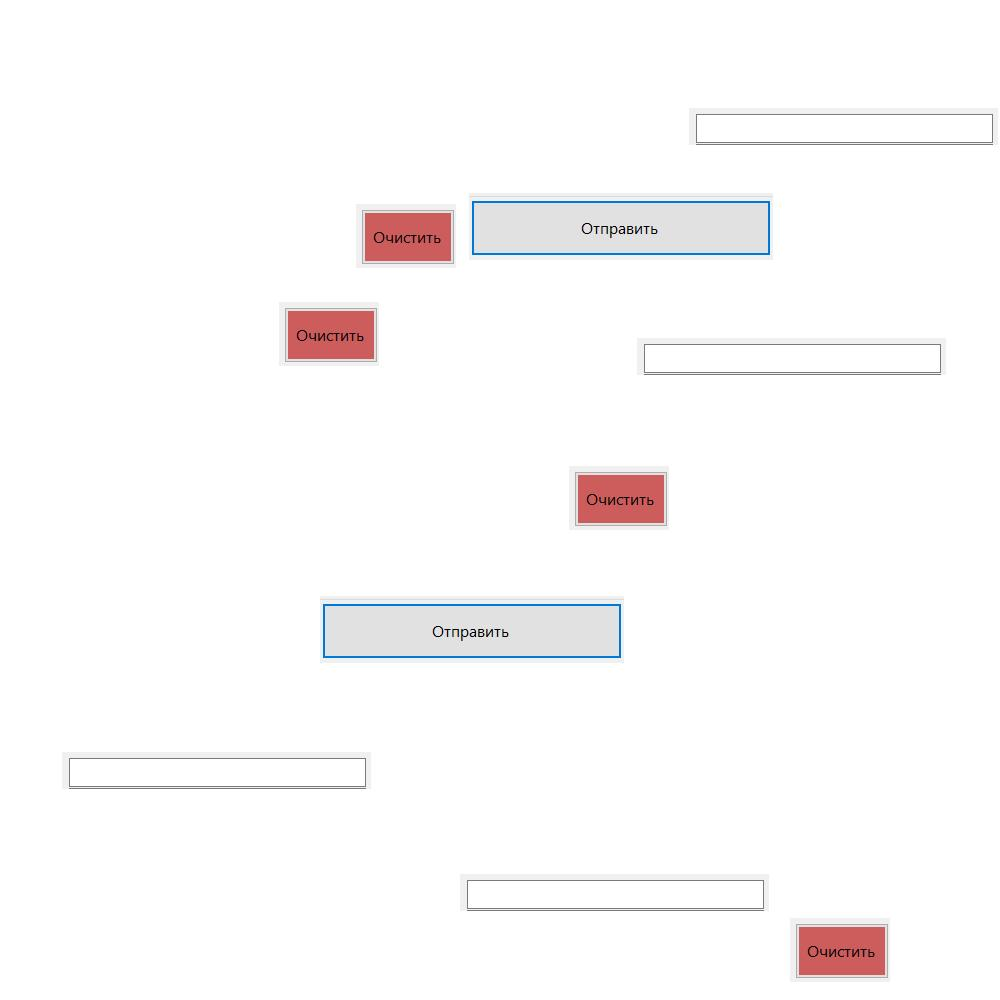Button: (320, 596, 624, 663), (469, 193, 773, 260), (569, 466, 669, 530), (356, 204, 456, 268), (790, 918, 890, 982), (279, 302, 379, 366)
EditText-: (460, 874, 769, 911), (689, 108, 998, 145), (62, 752, 371, 789), (637, 338, 946, 375)
